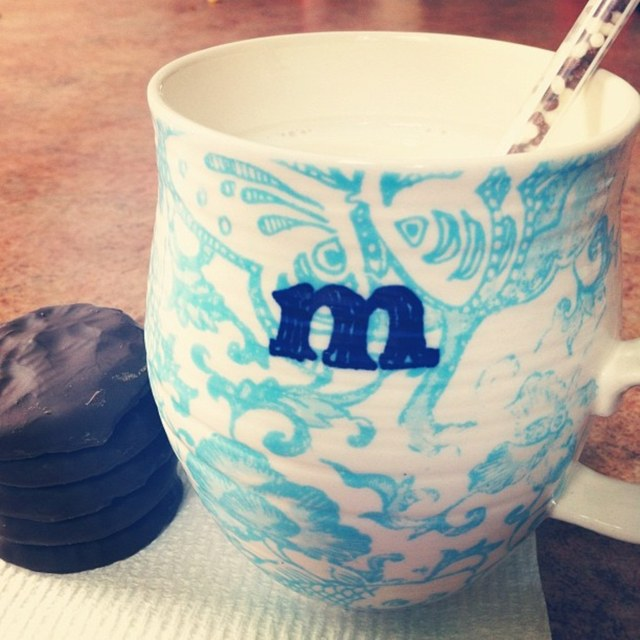bowl: (144, 31, 640, 610)
